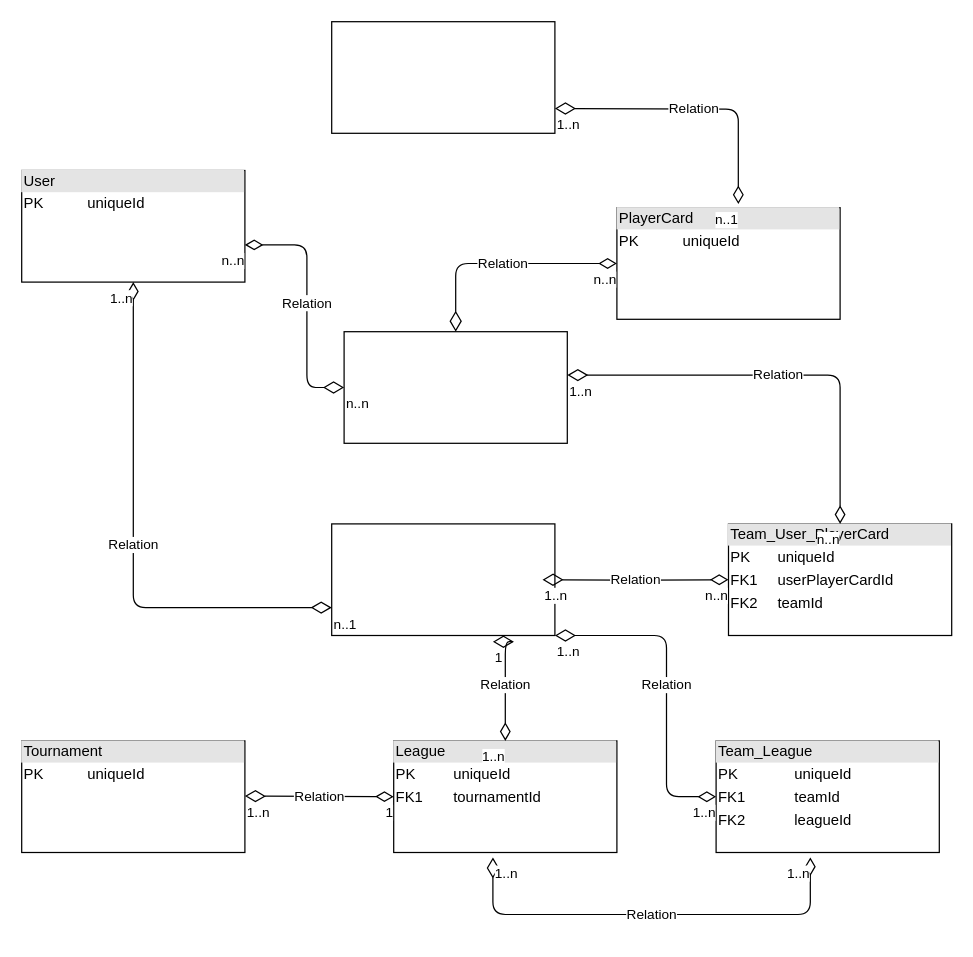
This 973x957 diagram has some shape labels left out. The centre of each missing label's shape, as x and y in pixels:
"Player PK uniqueId" goes at (x=442, y=76).
"Team PK uniqueId FK1 userId FK2 leagueId" goes at (x=442, y=579).
"User_PlayerCard PK uniqueId FK1 userId Fk2 playerCardId" goes at (x=455, y=386).
